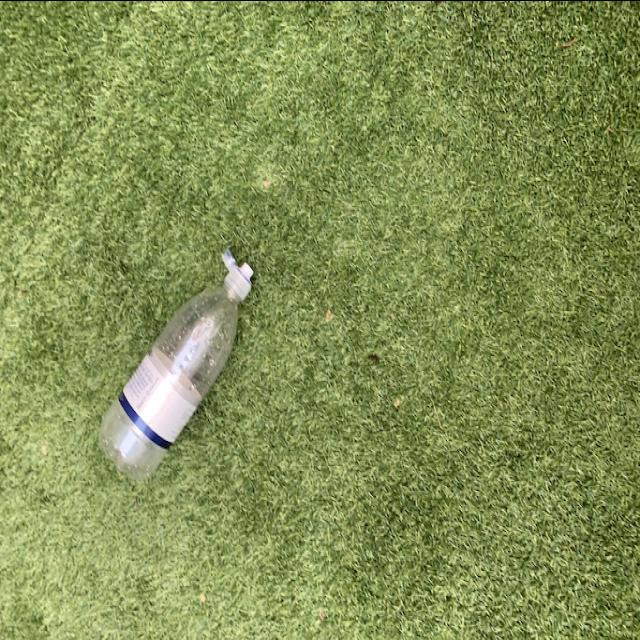litter: (100, 245, 260, 484)
